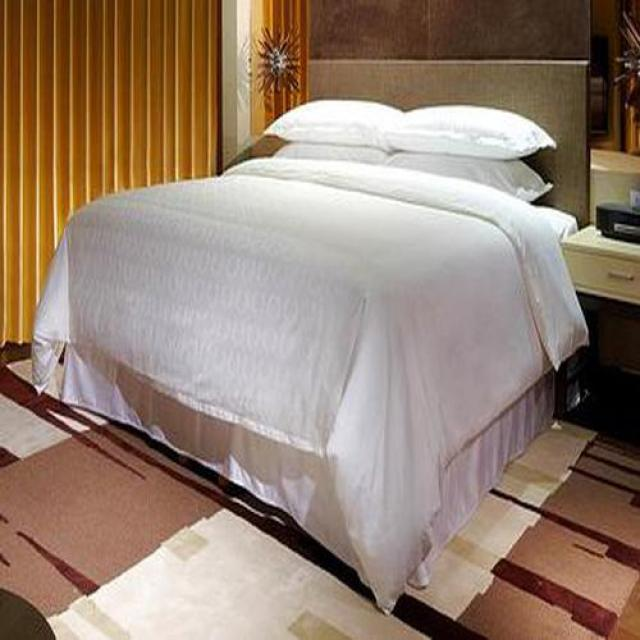bed: (31, 60, 593, 613)
